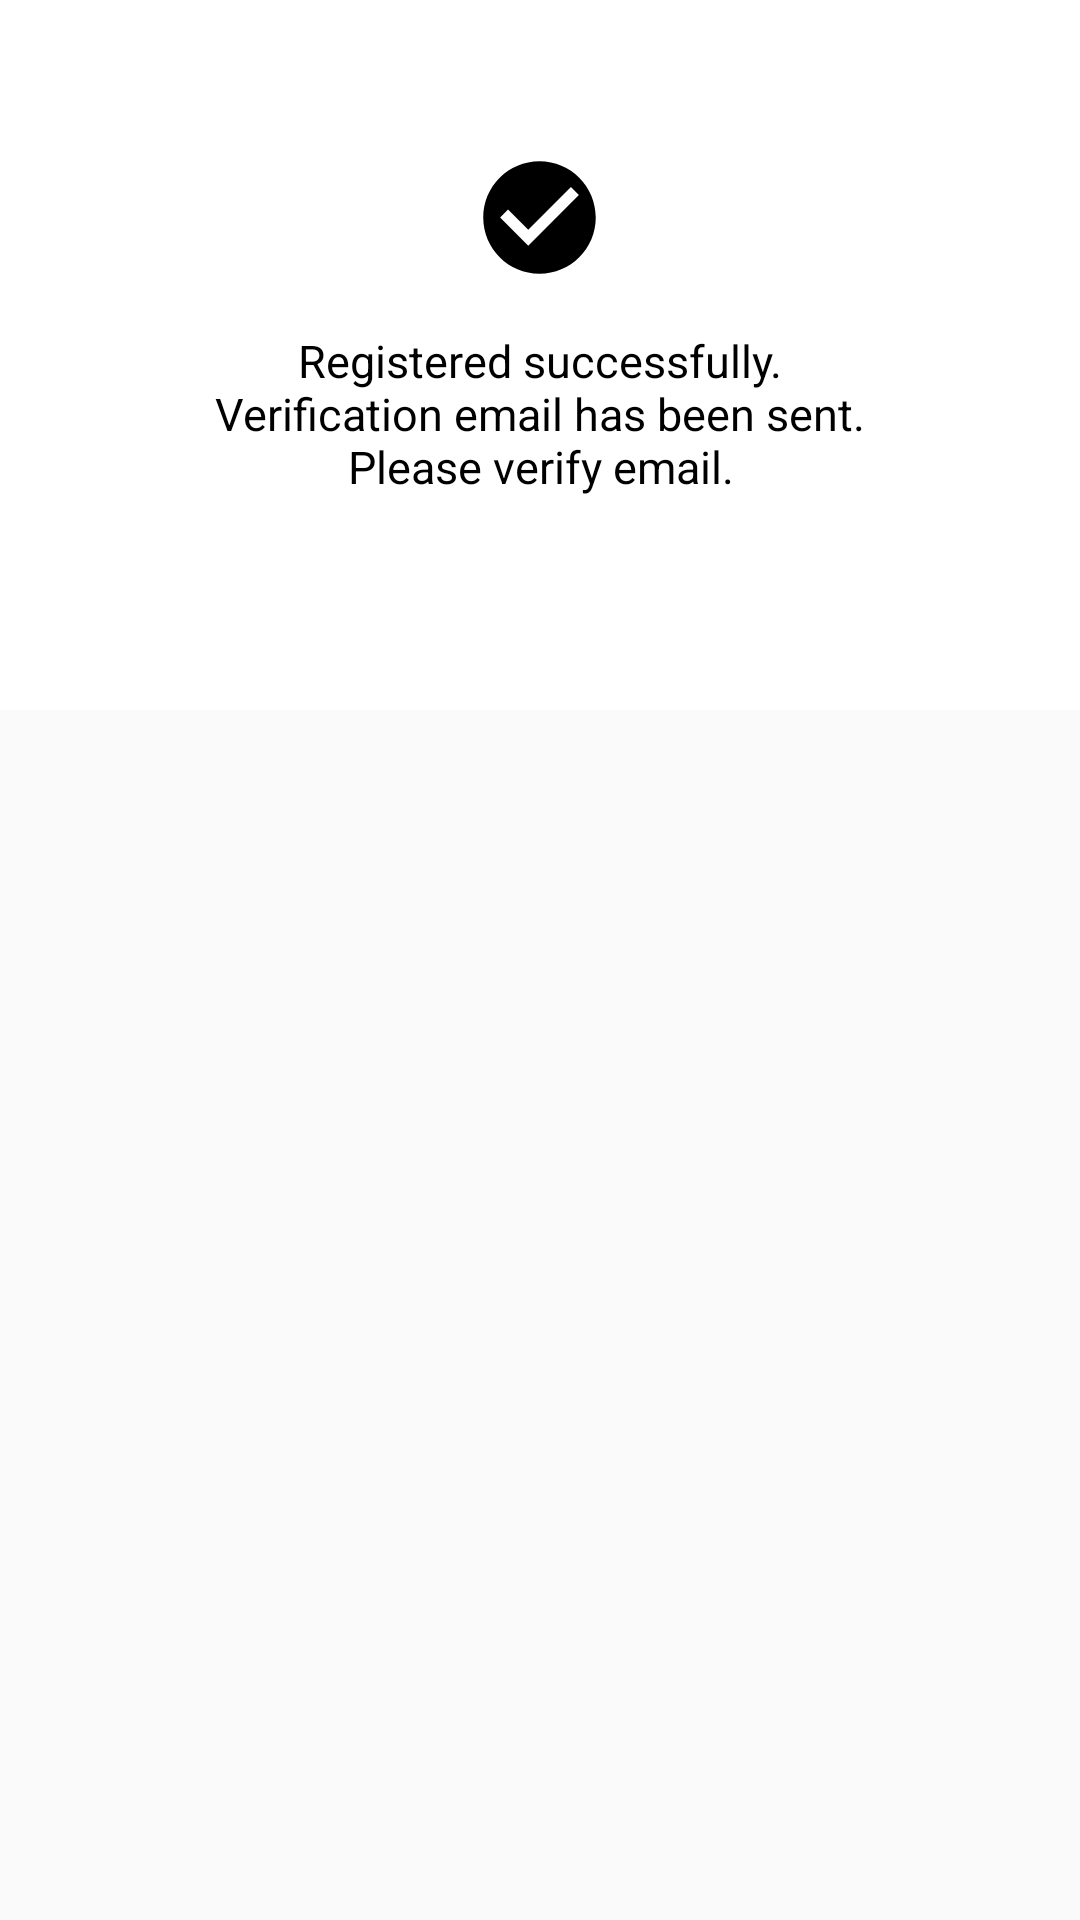

Where icons sit on this 1080px×1920px app screen, as box=[x1, y1, x2, y2]:
check circle: box=[483, 161, 596, 274]
